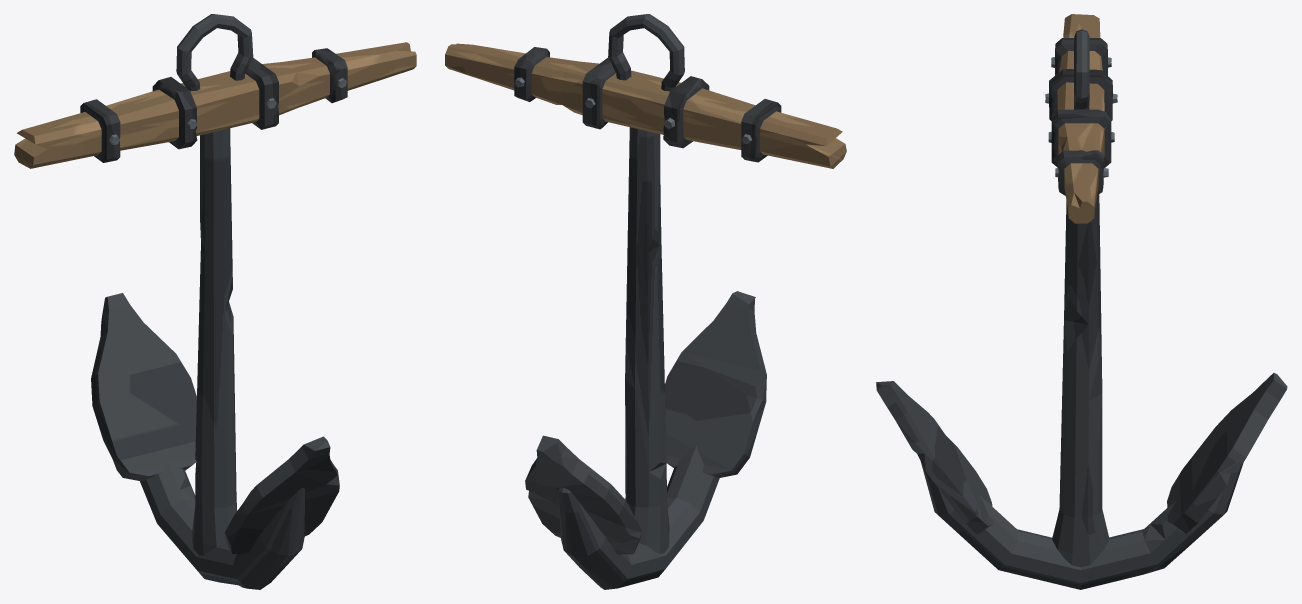
Rendered from SM_Prop_Anchor_02.fbx.
3 renders of one model, left to right at view 1: azimuth 30°, elevation 25°; view 2: azimuth 150°, elevation 25°; view 3: azimuth 270°, elevation 25°, orthographic.
Parts seen in each view (by area): view 1: SM_Prop_Anchor_02; view 2: SM_Prop_Anchor_02; view 3: SM_Prop_Anchor_02.
Boxes of the visible parts, bbox=[...] form: SM_Prop_Anchor_02: bbox=[14, 14, 416, 589]; SM_Prop_Anchor_02: bbox=[445, 14, 846, 589]; SM_Prop_Anchor_02: bbox=[876, 14, 1287, 589].
Bounding box in the file's own units: 348 × 485 × 326.
